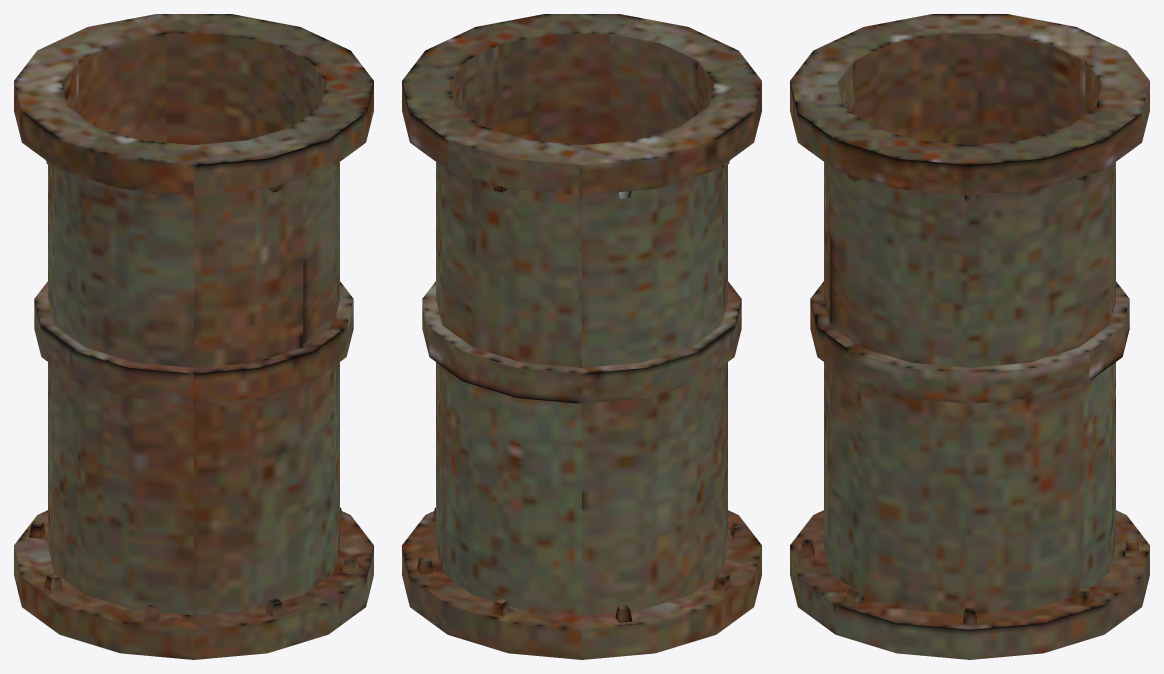
File: Pipe_Set_1_4.glb
3 renders of one model, left to right at view 1: azimuth 30°, elevation 25°; view 2: azimuth 150°, elevation 25°; view 3: azimuth 270°, elevation 25°, orthographic.
Parts seen in each view (by area): view 1: Pipe_Set_1_4; view 2: Pipe_Set_1_4; view 3: Pipe_Set_1_4.
Part boxes in pixels (x1,y1,x2,y2): Pipe_Set_1_4: (14,14,373,659); Pipe_Set_1_4: (402,14,761,659); Pipe_Set_1_4: (790,14,1149,659).
Bounding box in the file's own units: 0.2686 × 0.4096 × 0.2701.
Materials: 1 (1 with a texture image).
